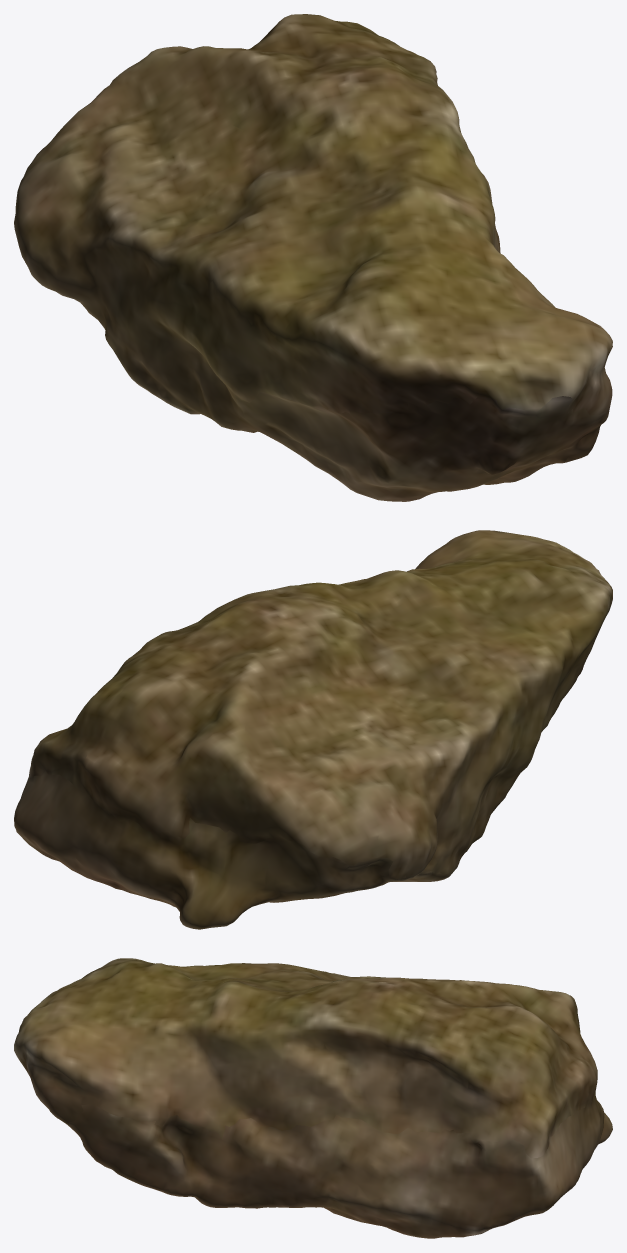
The model's file is rock_moss_set_01_d.gltf.
3 renders of one model, top to bottom at view 1: azimuth 30°, elevation 25°; view 2: azimuth 150°, elevation 25°; view 3: azimuth 270°, elevation 25°, orthographic. The views are drawn at different scales.
Visible parts, largest first — view 1: rock_moss_set_01_rock05; view 2: rock_moss_set_01_rock05; view 3: rock_moss_set_01_rock05.
Boxes of the visible parts, x1,y1,x2,y2 form: rock_moss_set_01_rock05: [14, 14, 612, 501]; rock_moss_set_01_rock05: [14, 530, 612, 929]; rock_moss_set_01_rock05: [14, 958, 612, 1238].
Size of the model in its own units: 1.82 by 1.21 by 3.
1 material, 1 textured.
